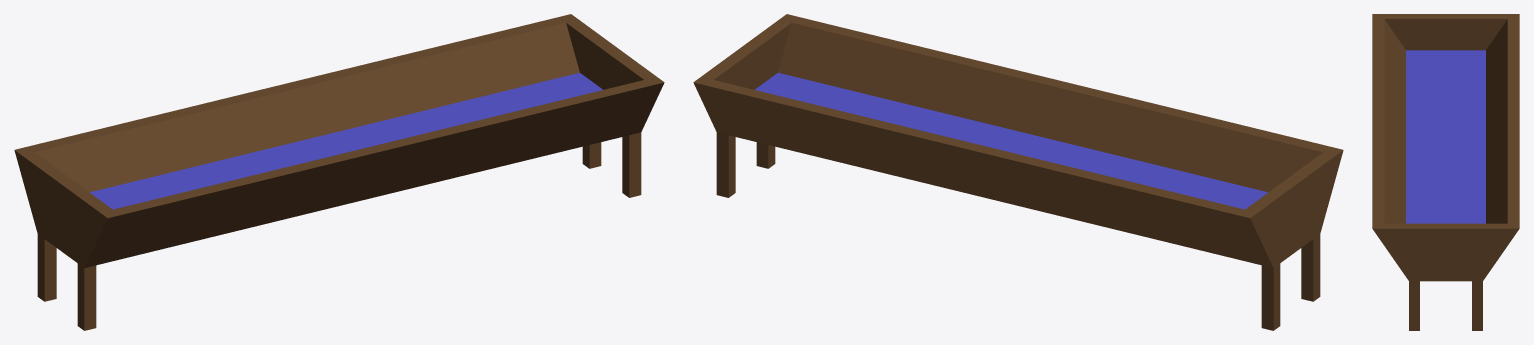
File: Trough.FBX
3 views of the same model, side by side, from view 1: azimuth 30°, elevation 25°; view 2: azimuth 150°, elevation 25°; view 3: azimuth 270°, elevation 25° (orthographic). The views are drawn at different scales.
Visible parts, largest first — view 1: Farm_Trough_01; view 2: Farm_Trough_01; view 3: Farm_Trough_01.
Boxes of the visible parts, x1=… form: Farm_Trough_01: x1=14, y1=14, x2=664, y2=330; Farm_Trough_01: x1=693, y1=14, x2=1343, y2=330; Farm_Trough_01: x1=1372, y1=14, x2=1519, y2=330.
Bounding box in the file's own units: 186 × 54.09 × 41.45.
